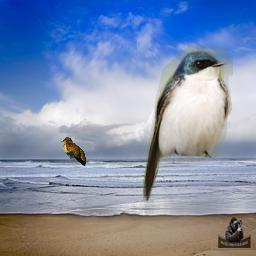Cuckoo: (61, 137, 86, 167)
Swallow: (143, 45, 233, 202)
